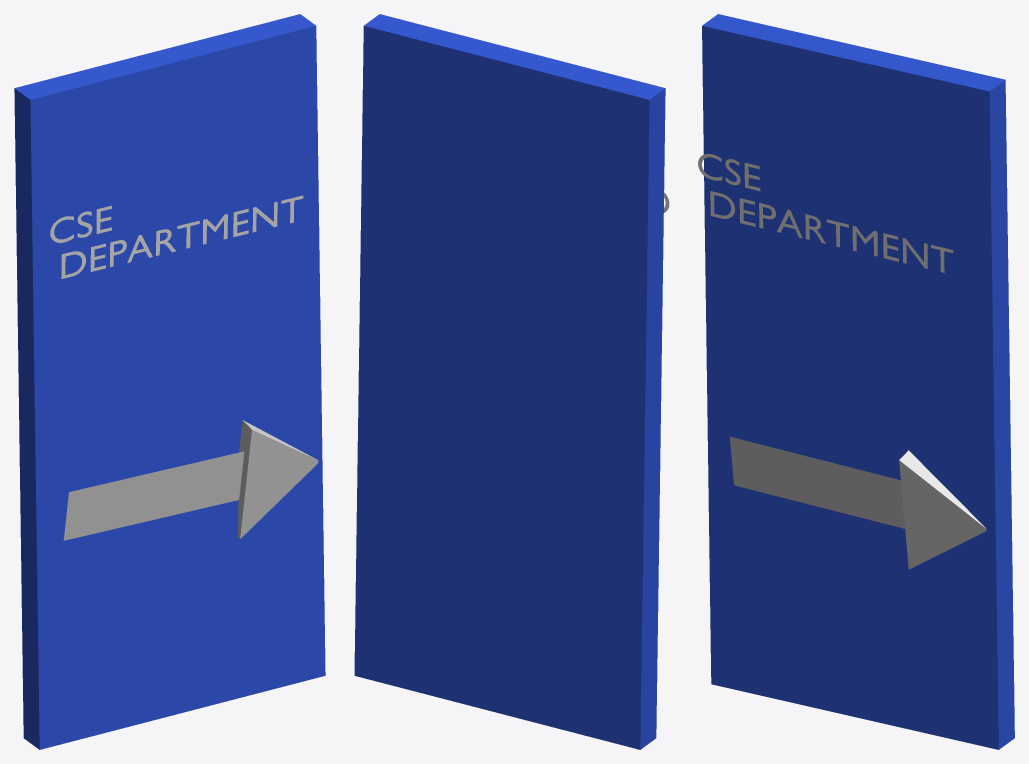
Rendered from csedep.glb.
3 views of the same model, side by side, from view 1: azimuth 30°, elevation 25°; view 2: azimuth 150°, elevation 25°; view 3: azimuth 330°, elevation 25° (orthographic).
Parts seen in each view (by area): view 1: Cube, Cube.001, Text; view 2: Cube; view 3: Cube, Cube.001, Text.
Boxes of the visible parts, box(x1,y1,x2,y2) form: Cube: box(14, 14, 325, 749); Cube.001: box(63, 420, 318, 540); Text: box(50, 195, 303, 278); Cube: box(354, 14, 665, 749); Cube: box(702, 14, 1014, 749); Cube.001: box(729, 436, 986, 569); Text: box(698, 154, 953, 272).
Size of the model in its own units: 2.06 by 4.39 by 0.3489.
